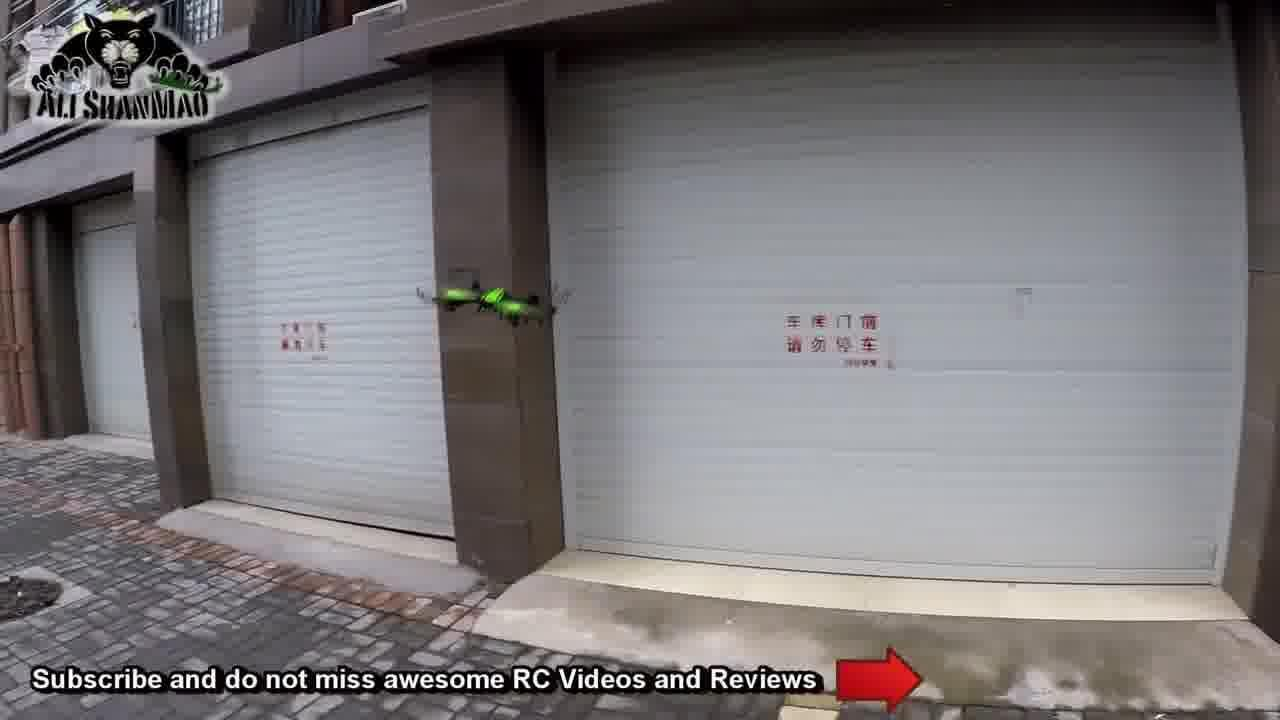drone: (404, 261, 594, 339)
